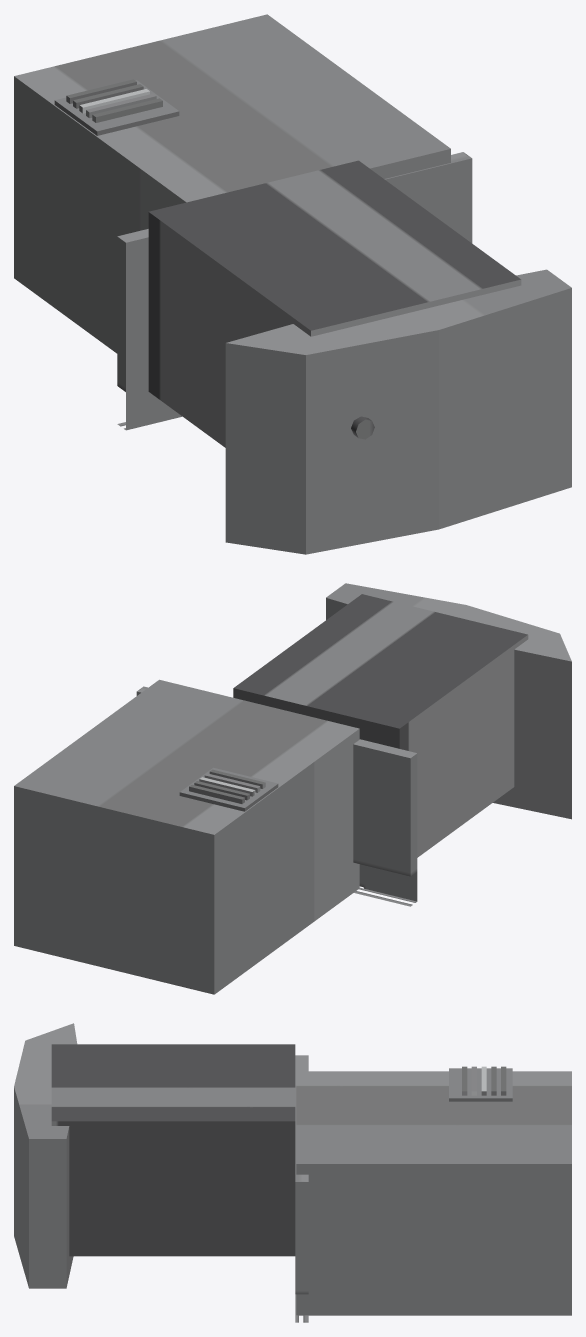
3 renders of one model, top to bottom at view 1: azimuth 30°, elevation 25°; view 2: azimuth 150°, elevation 25°; view 3: azimuth 270°, elevation 25°, orthographic. The views are drawn at different scales.
Bounding box in the file's own units: 0.9096 × 0.4712 × 1.49.
